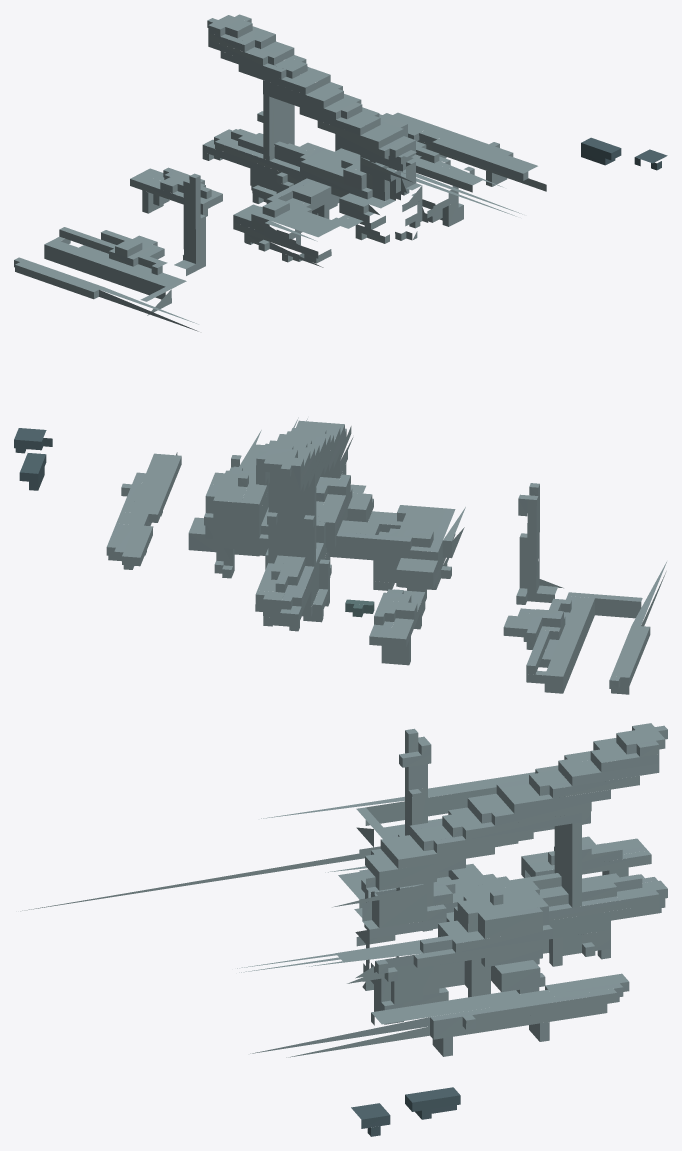
3 views of the same model, one above another, from view 1: azimuth 30°, elevation 25°; view 2: azimuth 150°, elevation 25°; view 3: azimuth 270°, elevation 25° (orthographic). The views are drawn at different scales.
Parts seen in each view (by area): view 1: measured-industrial; view 2: measured-industrial; view 3: measured-industrial.
Boxes of the visible parts, x1,y1,x2,y2 form: measured-industrial: (14, 14, 667, 331); measured-industrial: (14, 417, 666, 694); measured-industrial: (20, 723, 667, 1136).
Bounding box in the file's own units: 128 × 34.78 × 95.29.
